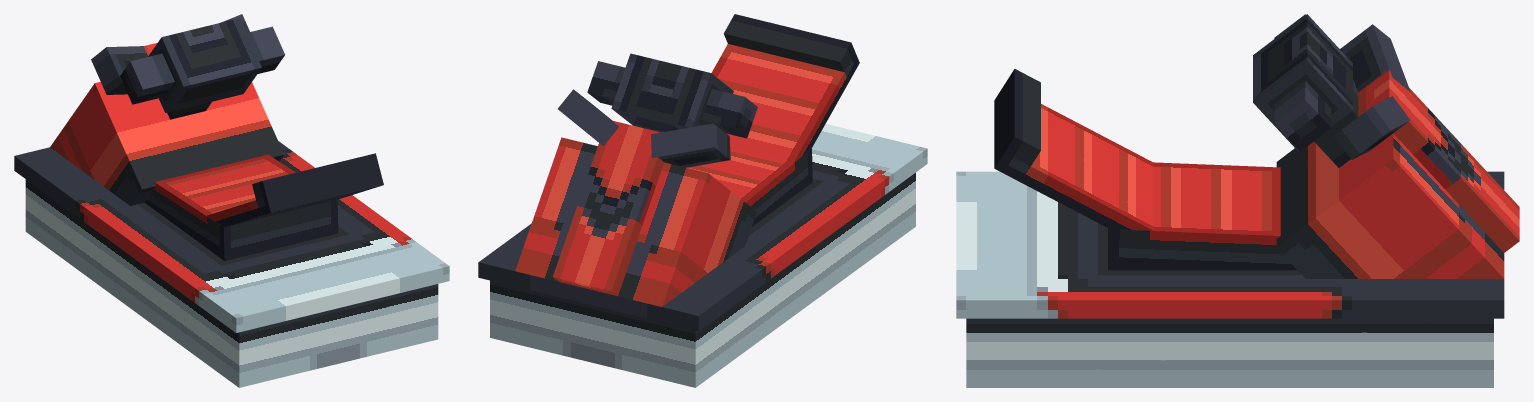
Rendered from jetski.gltf.
3 views of the same model, side by side, from view 1: azimuth 30°, elevation 25°; view 2: azimuth 150°, elevation 25°; view 3: azimuth 270°, elevation 25° (orthographic). The views are drawn at different scales.
Visible parts, largest first — view 1: cube (×9); view 2: cube (×12); view 3: cube (×12).
Part boxes in pixels (x1,y1,x2,y2): cube (×9): [14, 18, 449, 387]; cube (×12): [478, 14, 927, 387]; cube (×12): [956, 14, 1519, 387].
Size of the model in its own units: 0.9375 by 0.9866 by 1.74.
1 material, 1 textured.
